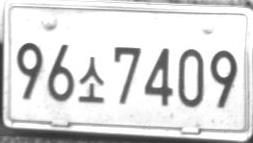0: (177, 48, 204, 107)
4: (144, 48, 173, 106)
6: (47, 44, 74, 102)
7: (113, 46, 142, 104)
9: (209, 50, 238, 107), (16, 42, 42, 99)
소: (78, 56, 105, 103)
